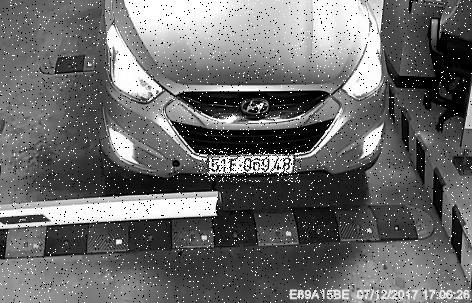License-plate: (200, 149, 303, 183)
